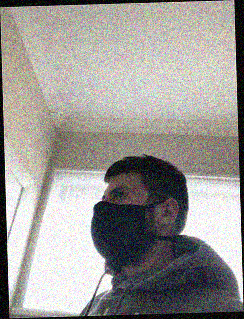with_mask: (90, 183, 152, 266)
